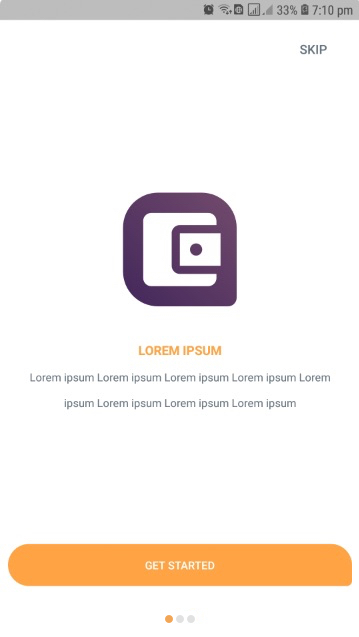Image: (123, 193, 238, 307)
PageIndicator: (165, 614, 196, 624)
Text: (30, 373, 331, 411), (139, 345, 223, 356), (300, 45, 328, 56)
TextButton: (9, 544, 352, 586)
UpperTaskBar: (1, 1, 359, 21)
